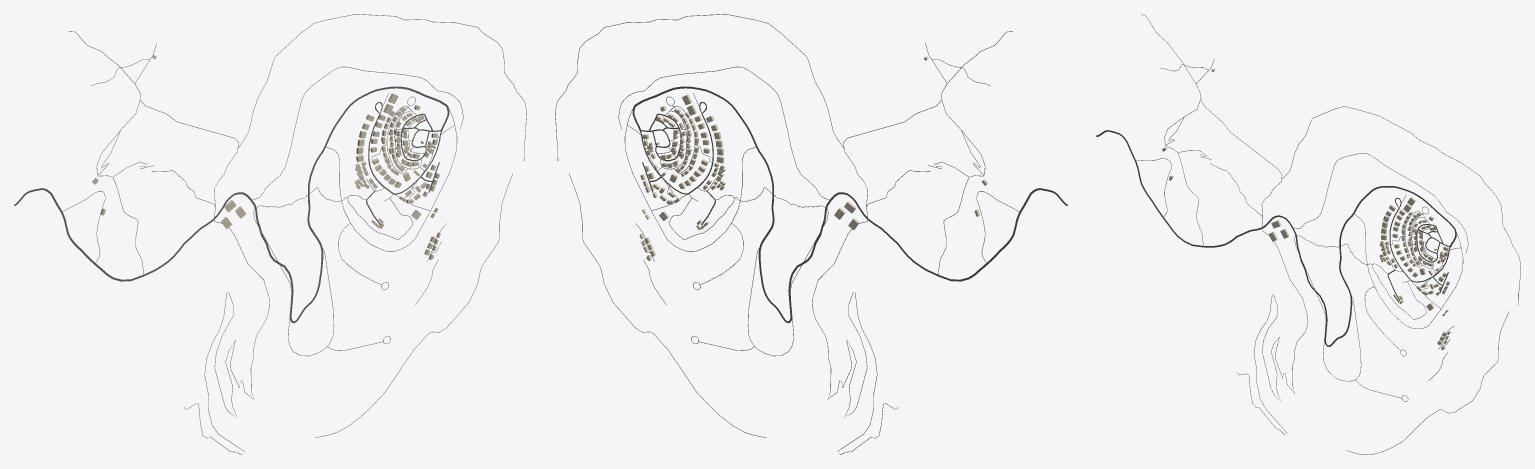
Rendered from historic-palestine-09_25_3514_3194.glb.
The picture shows the model from 3 angles, left to right: view 1: azimuth 30°, elevation 25°; view 2: azimuth 150°, elevation 25°; view 3: azimuth 330°, elevation 25°; orthographic projection. The views are drawn at different scales.
Visible parts, largest first — view 1: Road מוריה, Road .003, Road .046; view 2: Road מוריה, Road .003, Road .046; view 3: Road מוריה, Road .003.
Part boxes in pixels (x1=…): Road מוריה: x1=14, y1=86, x2=449, y2=323; Road .003: x1=98, y1=162, x2=269, y2=454; Road .046: x1=238, y1=14, x2=526, y2=160; Road מוריה: x1=632, y1=86, x2=1067, y2=323; Road .003: x1=812, y1=162, x2=983, y2=454; Road .046: x1=555, y1=14, x2=843, y2=160; Road מוריה: x1=1096, y1=130, x2=1456, y2=346; Road .003: x1=1166, y1=146, x2=1307, y2=434.
Size of the model in its own units: 1412 by 1229 by 8.7.
